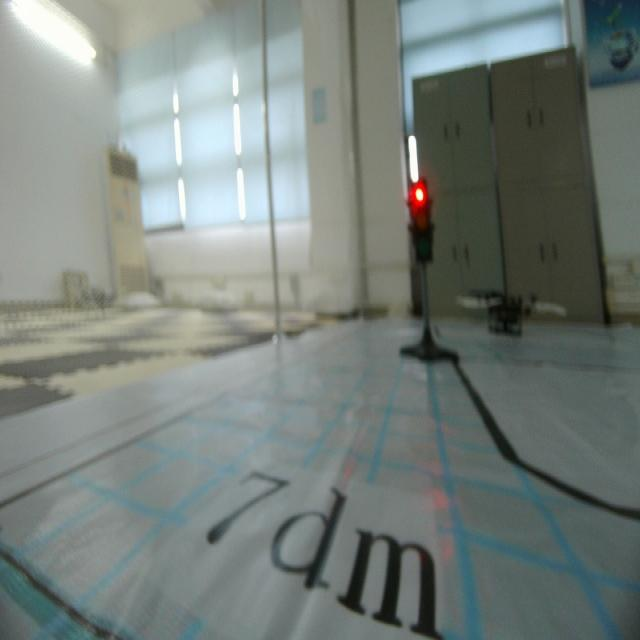red: (406, 184, 435, 266)
